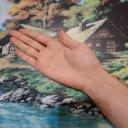OpenPalm: (7, 24, 101, 98)
